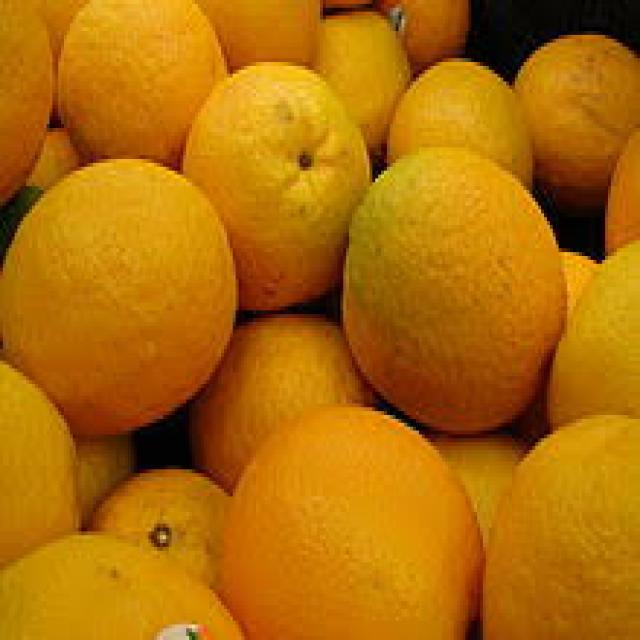Good_Orange: (0, 159, 239, 442), (343, 147, 567, 438), (212, 403, 486, 640), (180, 62, 375, 314), (52, 0, 230, 171)
